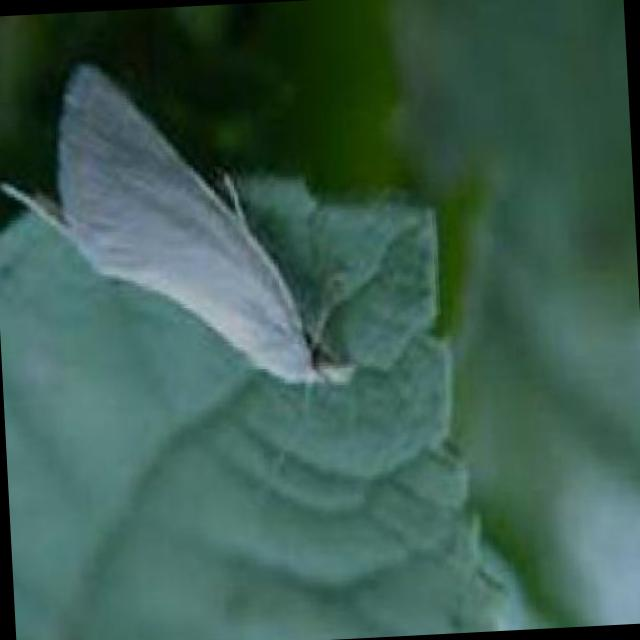stem-borer: (0, 39, 359, 411)
